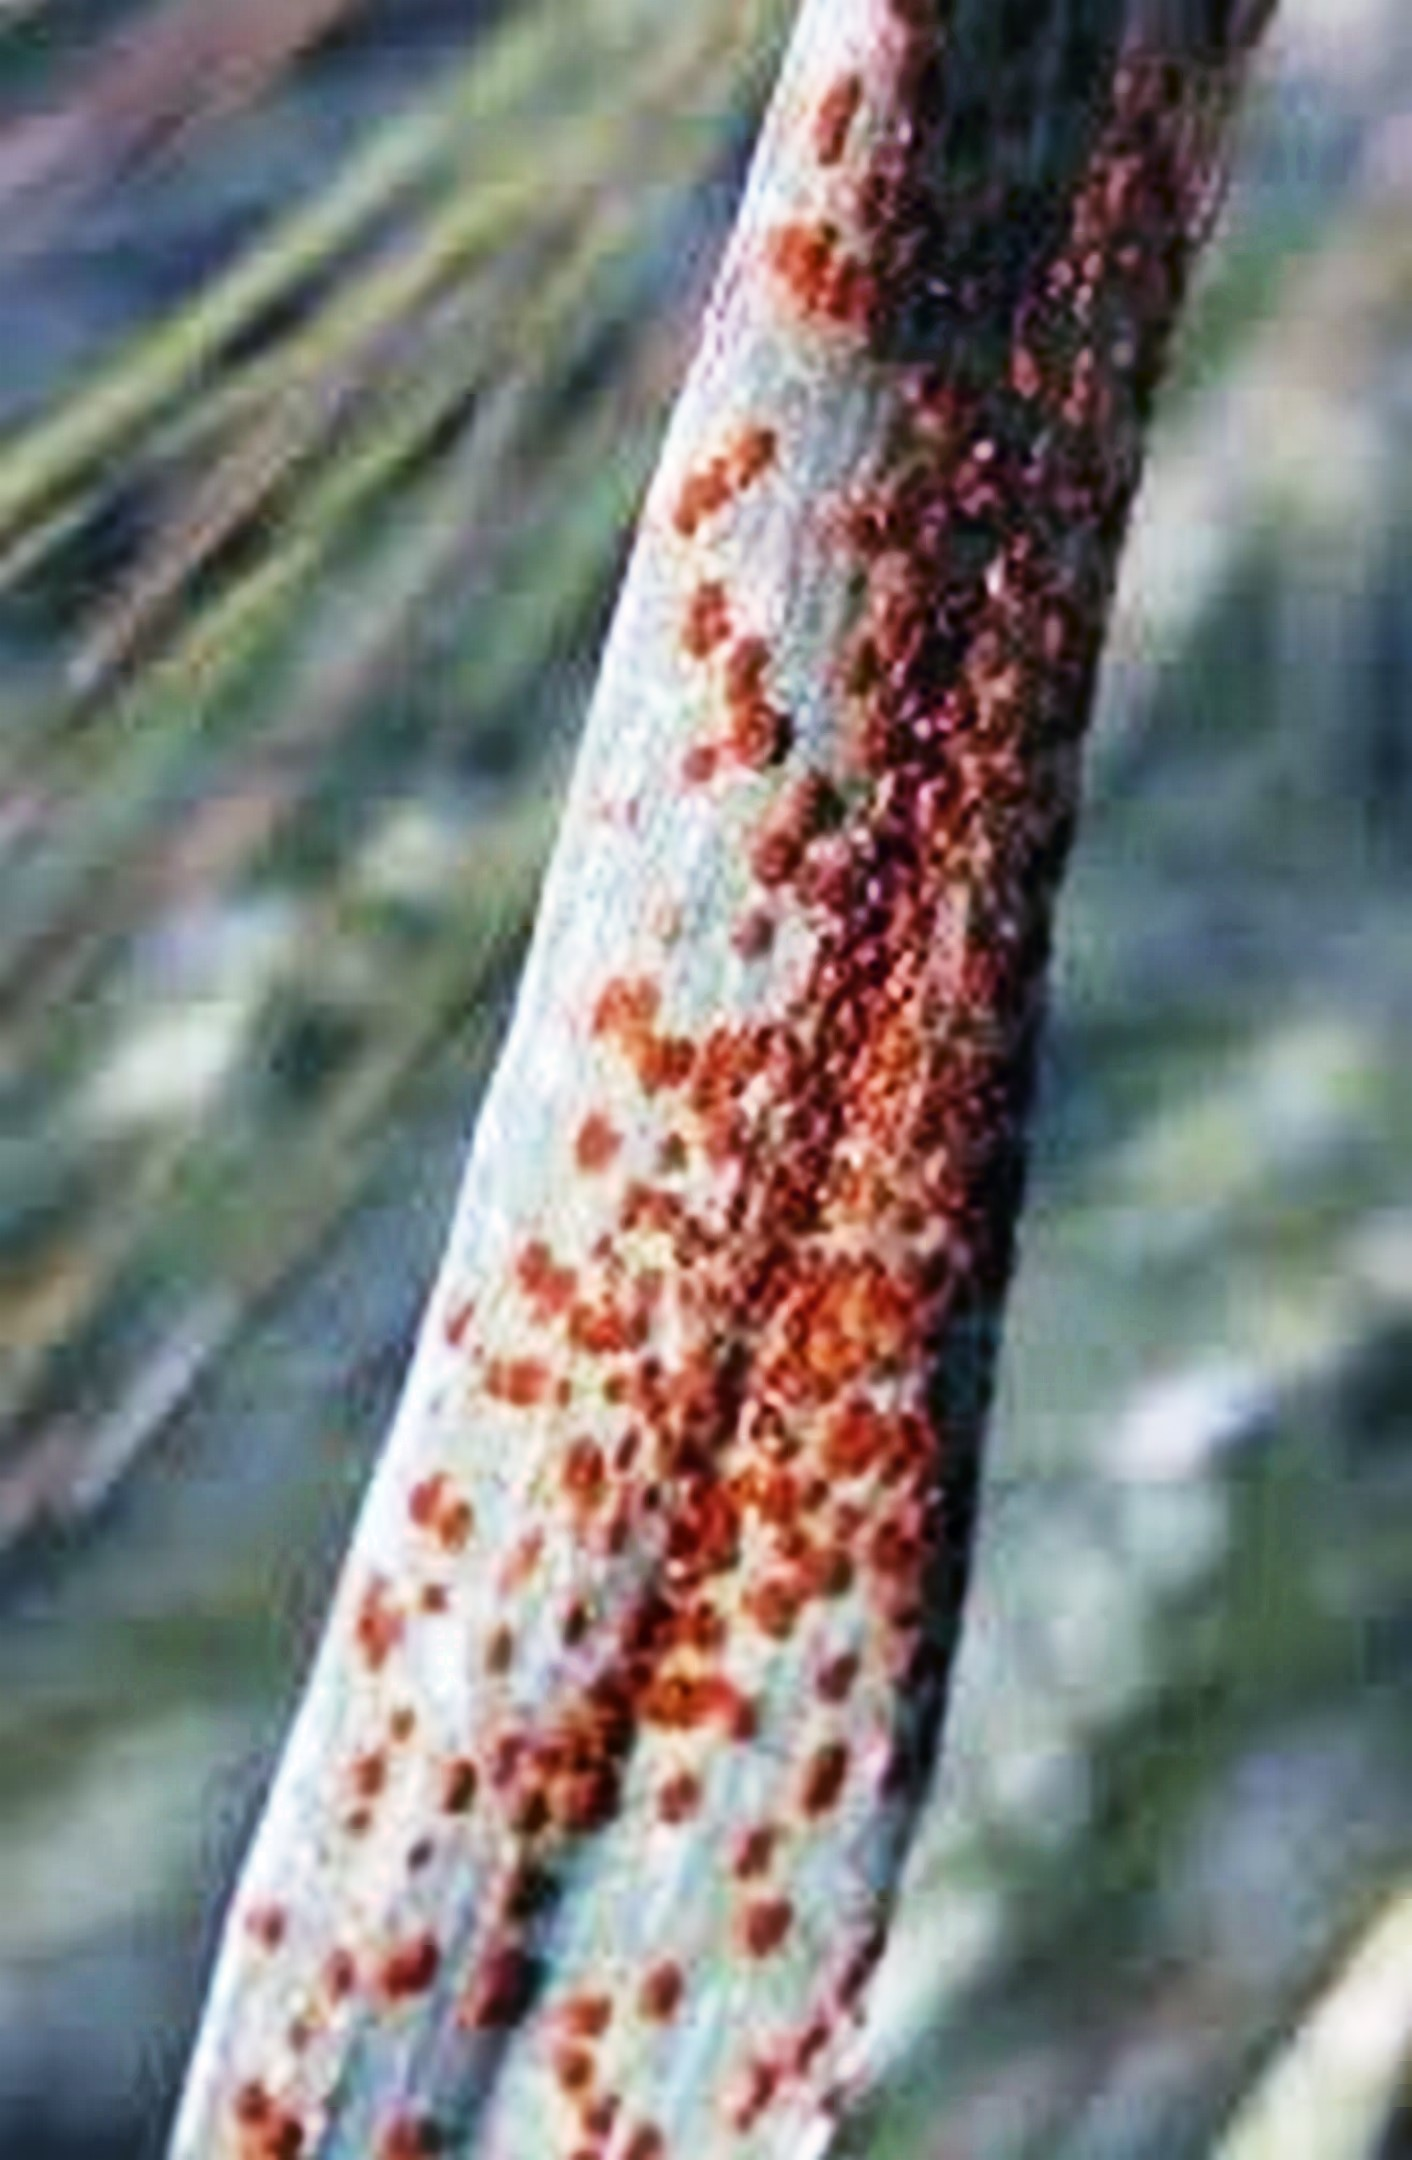Leaf Rust: (142, 1052, 1095, 2160)
